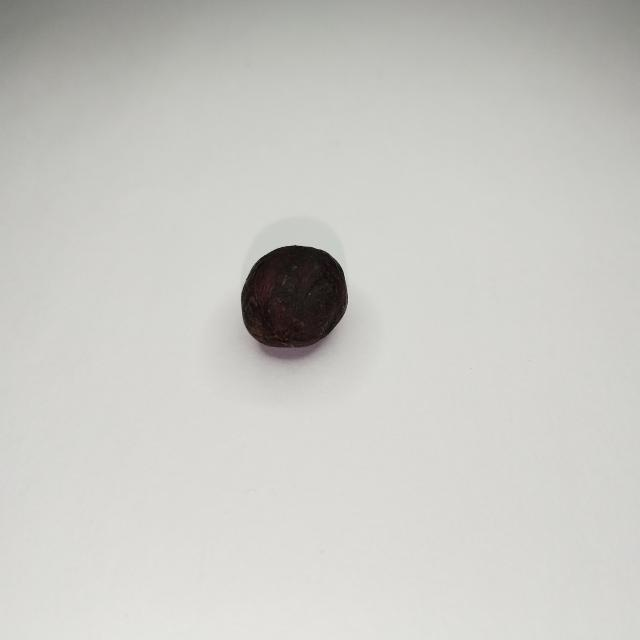Danado: (240, 246, 350, 354)
